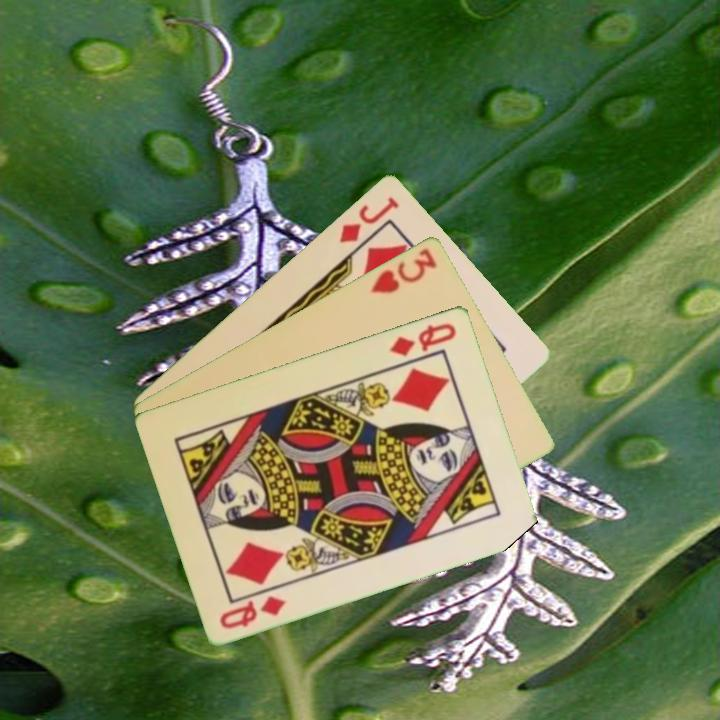3h: (367, 244, 440, 296)
Jd: (335, 192, 402, 246)
Qd: (386, 319, 460, 359), (216, 591, 289, 631)
